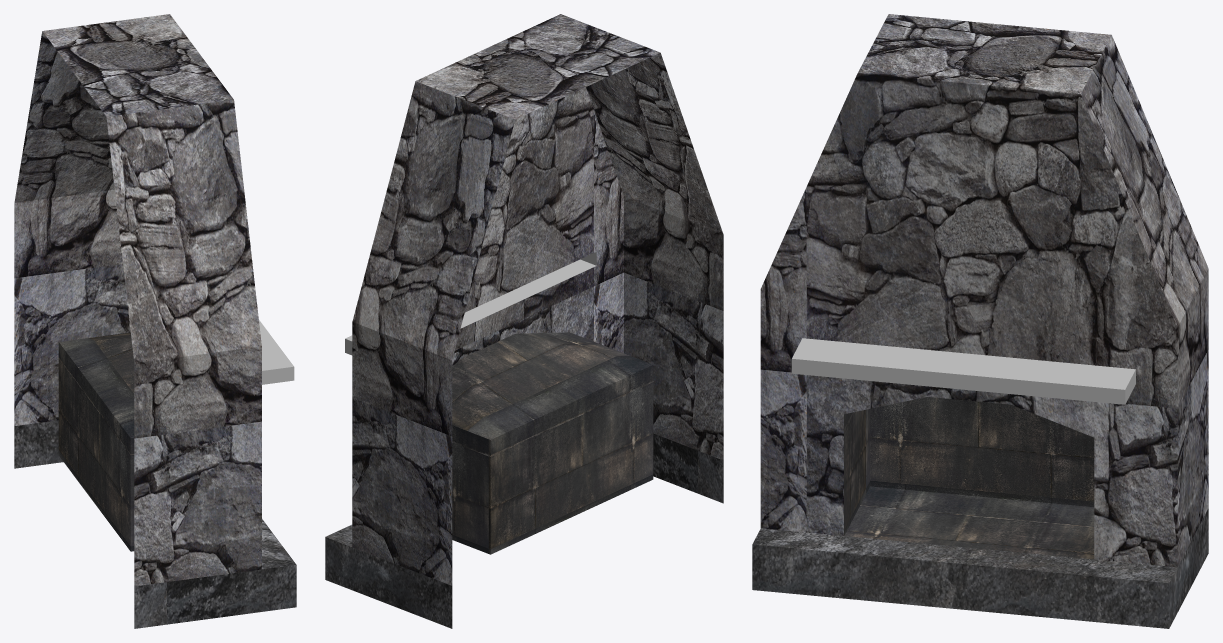
File: Chimney.fbx
3 views of the same model, side by side, from view 1: azimuth 30°, elevation 25°; view 2: azimuth 150°, elevation 25°; view 3: azimuth 270°, elevation 25° (orthographic). The views are drawn at different scales.
Visible parts, largest first — view 1: Chimney; view 2: Chimney; view 3: Chimney.
Boxes of the visible parts, box(x1,y1,x2,y2) form: Chimney: box(14, 14, 296, 628); Chimney: box(325, 14, 723, 628); Chimney: box(752, 14, 1208, 628).
Bounding box in the file's own units: 45.13 × 93.35 × 75.73.
